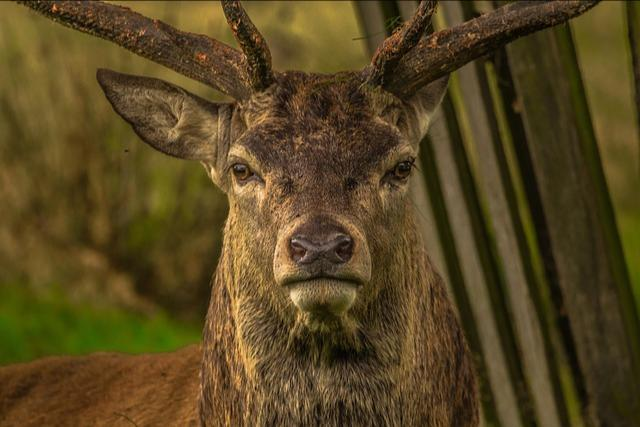Non_Gorille: (70, 0, 556, 425)
